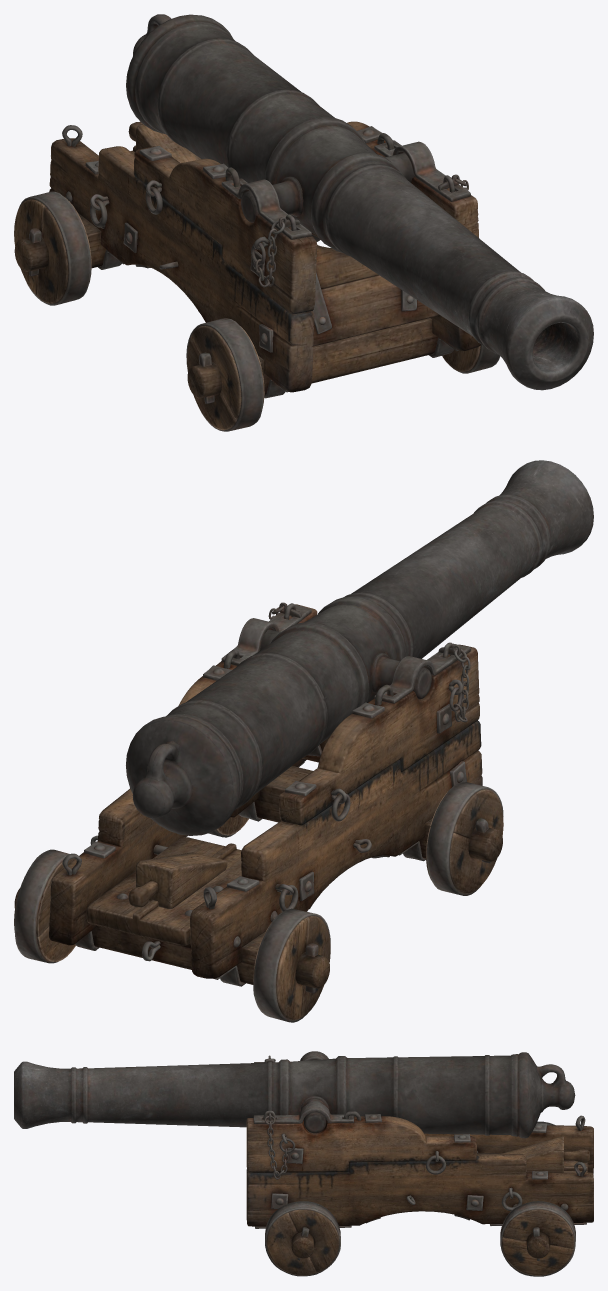
File: Sample.glb
3 views of the same model, one above another, from view 1: azimuth 30°, elevation 25°; view 2: azimuth 150°, elevation 25°; view 3: azimuth 270°, elevation 25° (orthographic). The views are drawn at different scales.
Parts seen in each view (by area): view 1: cannon_01_frame_0, cannon_01_barrel_2, cannon_01_wheel_02_5, cannon_01_wheel_01_4, cannon_01_pusherblock_1, cannon_01_wheel_03_6; view 2: cannon_01_frame_0, cannon_01_barrel_2, cannon_01_wheel_01_4, cannon_01_wheel_02_5, cannon_01_wheel_04_3, cannon_01_pusherblock_1; view 3: cannon_01_barrel_2, cannon_01_frame_0, cannon_01_wheel_04_3, cannon_01_wheel_03_6, cannon_01_pusherblock_1.
Part boxes in pixels (x1,y1,x2,y2): cannon_01_frame_0: [14, 121, 481, 403]; cannon_01_barrel_2: [126, 14, 593, 390]; cannon_01_wheel_02_5: [14, 191, 91, 305]; cannon_01_wheel_01_4: [186, 318, 264, 431]; cannon_01_pusherblock_1: [128, 121, 201, 163]; cannon_01_wheel_03_6: [442, 344, 500, 373]; cannon_01_frame_0: [14, 602, 502, 993]; cannon_01_barrel_2: [126, 460, 593, 835]; cannon_01_wheel_01_4: [426, 782, 503, 895]; cannon_01_wheel_02_5: [253, 908, 330, 1022]; cannon_01_wheel_04_3: [14, 849, 75, 963]; cannon_01_pusherblock_1: [128, 852, 227, 908]; cannon_01_barrel_2: [14, 1052, 575, 1138]; cannon_01_frame_0: [246, 1051, 593, 1260]; cannon_01_wheel_04_3: [500, 1201, 575, 1276]; cannon_01_wheel_03_6: [265, 1201, 340, 1276]; cannon_01_pusherblock_1: [501, 1136, 589, 1172].
Bounding box in the file's own units: 0.9381 × 0.7759 × 2.3.
Materials: 1 (1 with a texture image).
